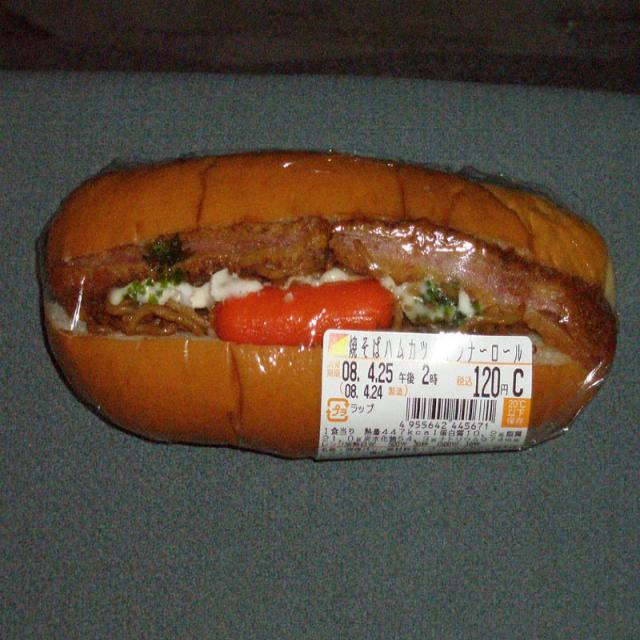三明治: (0, 125, 640, 494)
